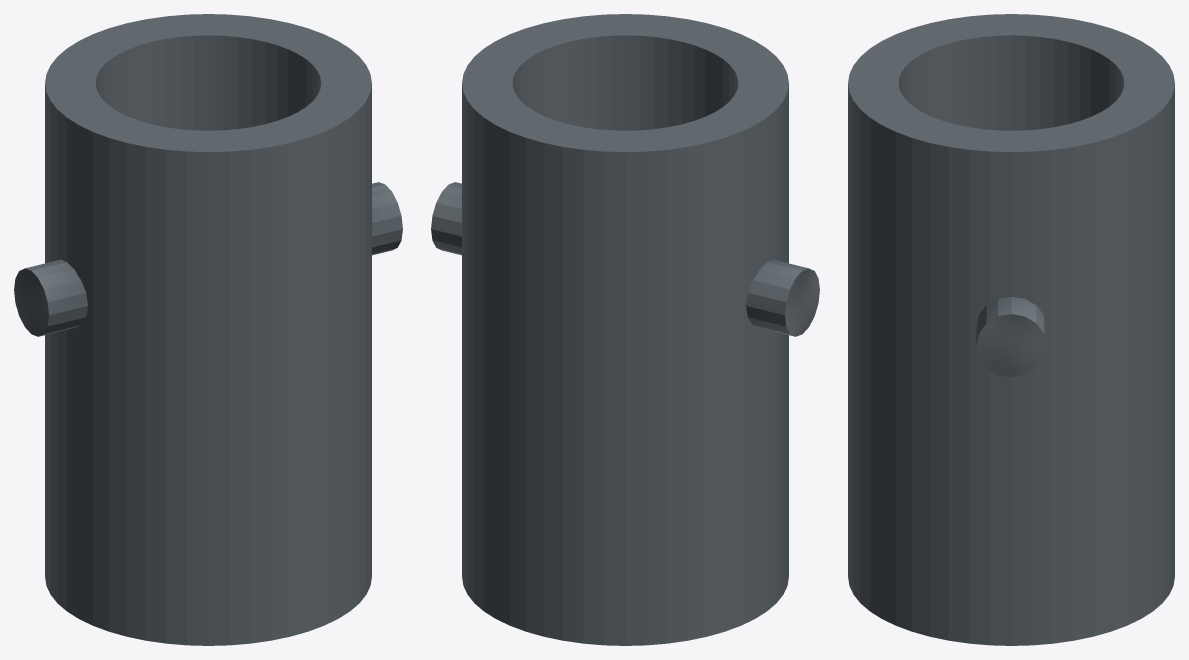
File: terminal.hoist.r02.termination.glb
3 views of the same model, side by side, from view 1: azimuth 30°, elevation 25°; view 2: azimuth 150°, elevation 25°; view 3: azimuth 270°, elevation 25° (orthographic).
Parts seen in each view (by area): view 1: terminal.hoist.r02.termination; view 2: terminal.hoist.r02.termination; view 3: terminal.hoist.r02.termination.
Boxes of the visible parts, box(x1,y1,x2,y2) form: terminal.hoist.r02.termination: box(14, 14, 402, 645); terminal.hoist.r02.termination: box(431, 14, 819, 645); terminal.hoist.r02.termination: box(848, 14, 1174, 645).
Bounding box in the file's own units: 0.105 × 0.14 × 0.084.
1 material, 1 textured.
